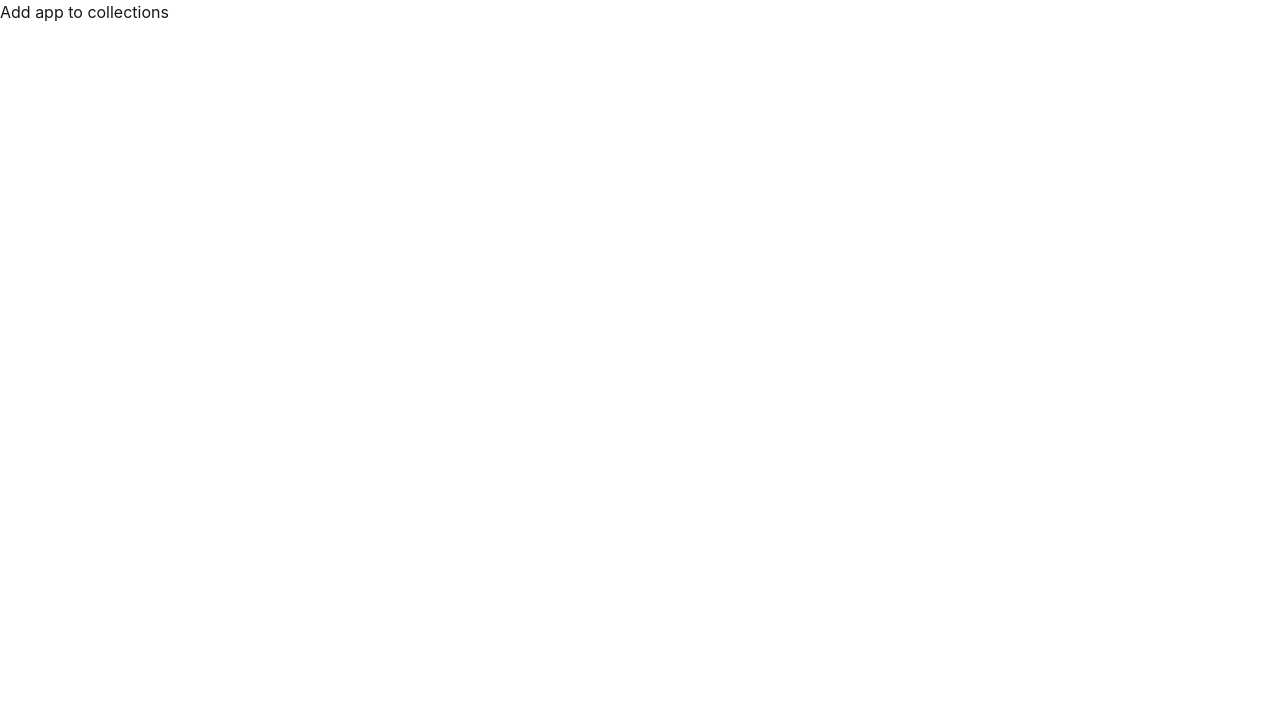
it: loads only when opened, stops card clicks, and supports independent membership
This screenshot has width=1280, height=720.
Later steps or results of the test are not shown.
What coordinates should you click on to do the following:
click the button "Add app to collections"
I would click on:
 (84, 12)
Its box is [0,0,169,24].
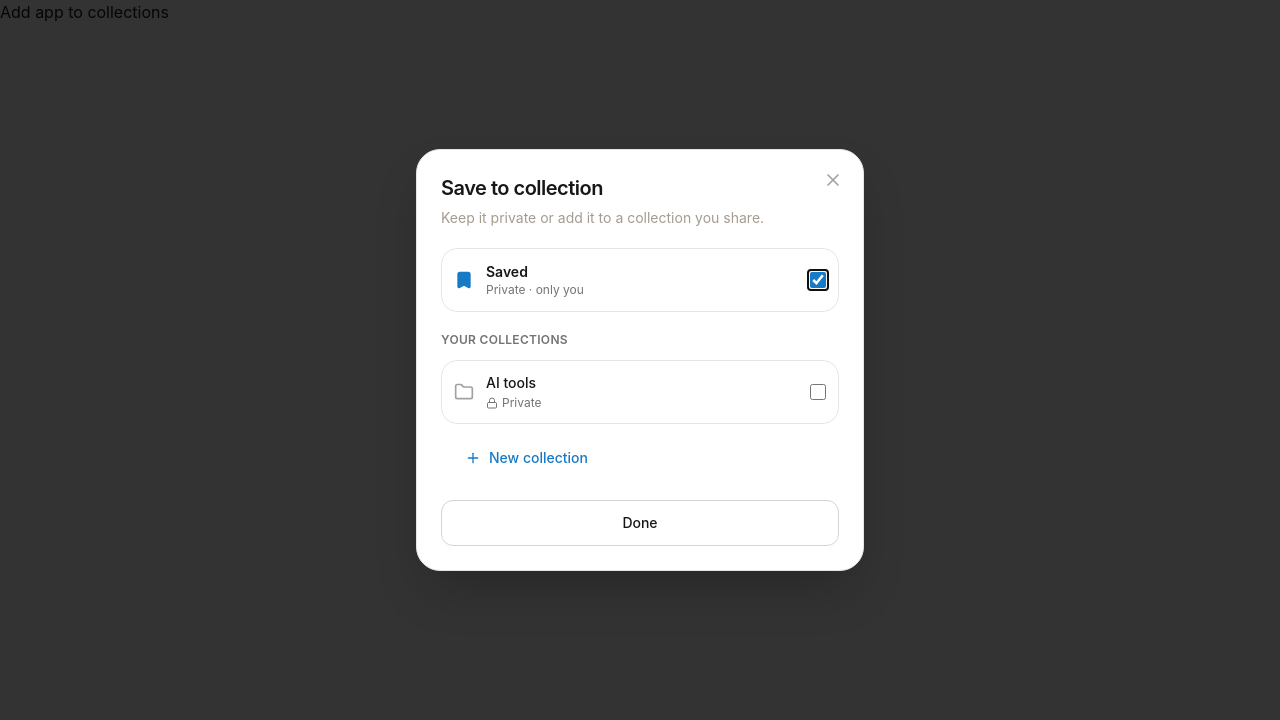
What coordinates should you click on to do the following:
click the checkbox labelled "AI tools Private"
I would click on:
 (818, 392)
Its box is [810,384,826,400].
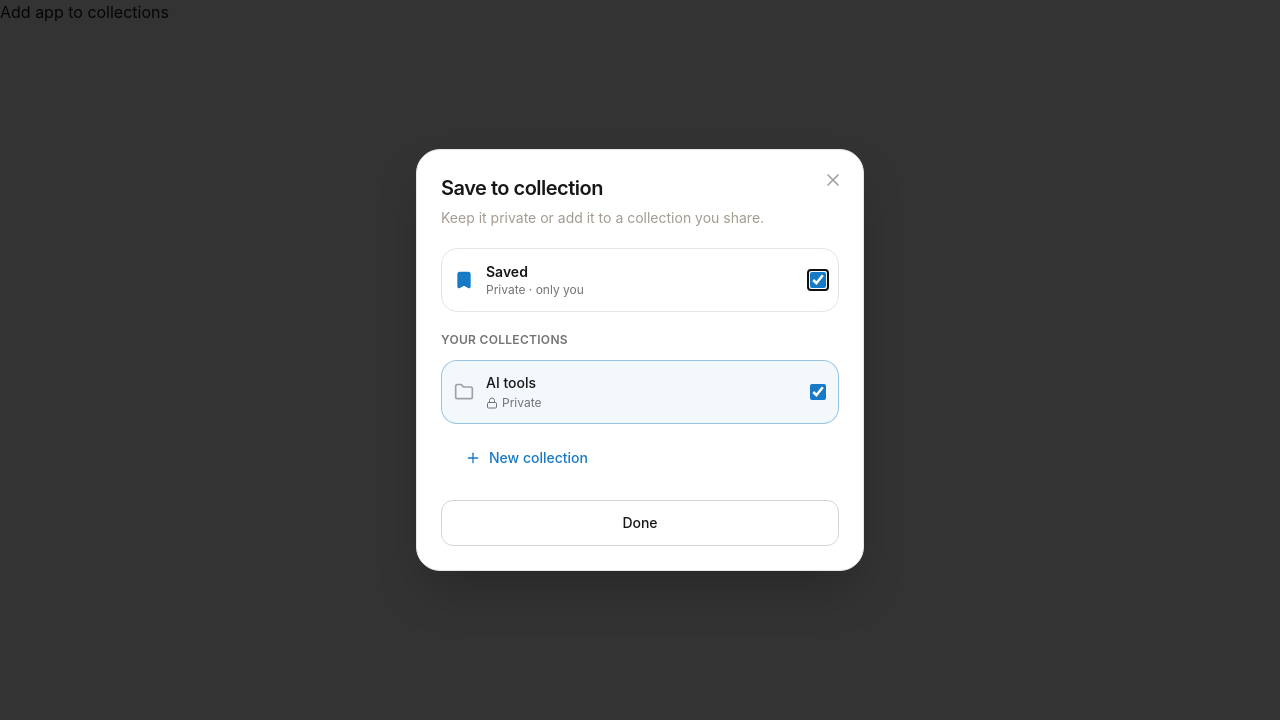
Check: the checkbox labelled "AI tools Private" is checked, box [810,384,826,400]
